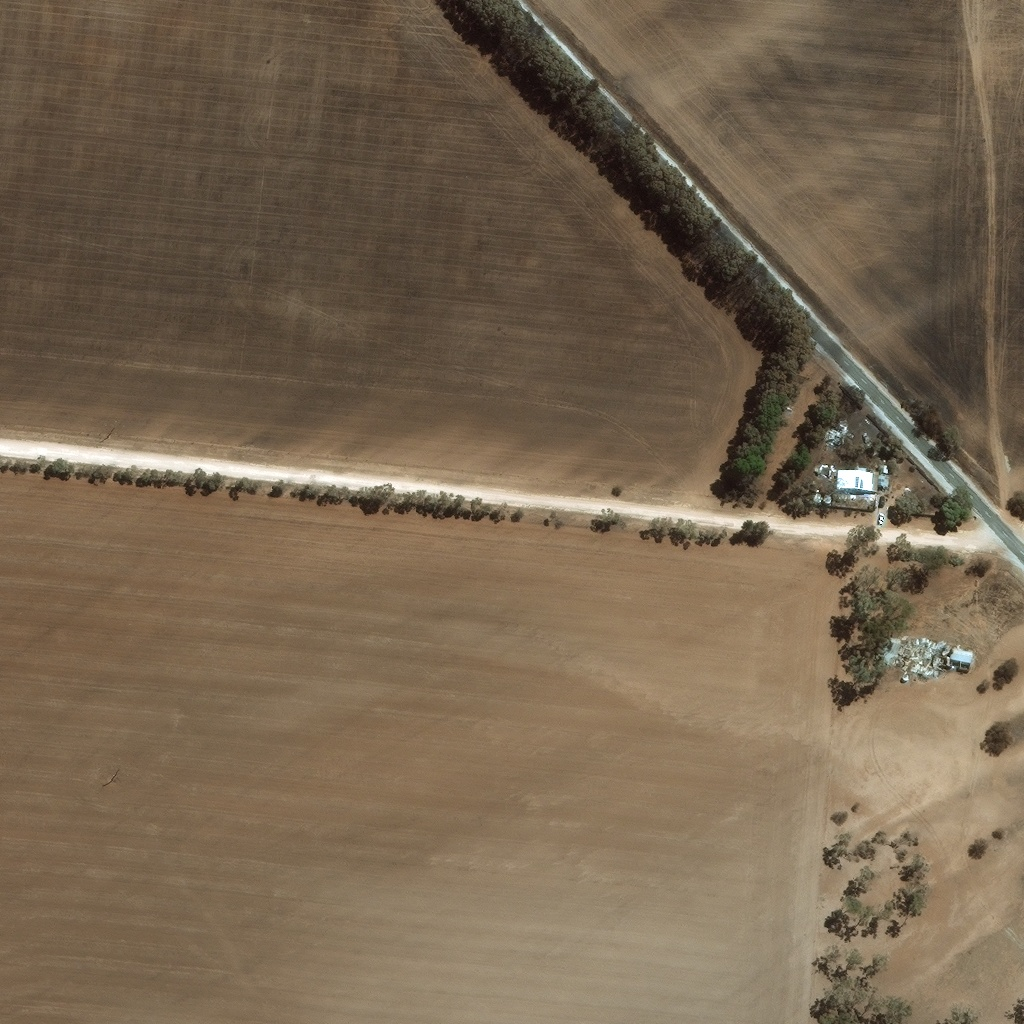2 major-damage: (836, 463, 875, 488)
3 destroyed: (878, 627, 975, 670), (828, 419, 848, 440), (903, 668, 911, 675)
